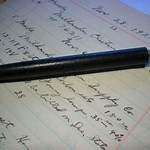pen: (1, 46, 150, 79)
